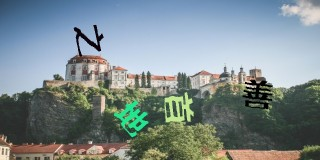之: (71, 23, 104, 58)
善: (242, 77, 272, 111)
地: (113, 100, 150, 138)
首: (162, 92, 196, 125)
